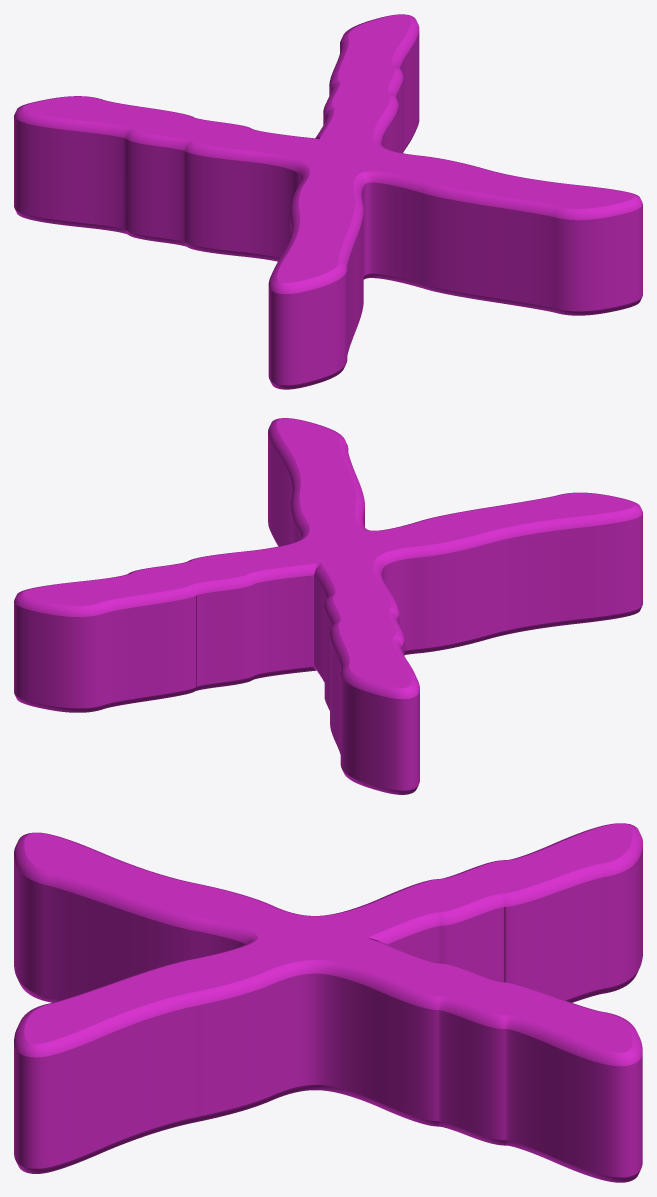
Rendered from Blocky_LetterX.fbx.
3 views of the same model, one above another, from view 1: azimuth 30°, elevation 25°; view 2: azimuth 150°, elevation 25°; view 3: azimuth 270°, elevation 25° (orthographic). The views are drawn at different scales.
Parts seen in each view (by area): view 1: BlockyLetter_X; view 2: BlockyLetter_X; view 3: BlockyLetter_X.
Part boxes in pixels (x1,y1,x2,y2): BlockyLetter_X: [14, 14, 642, 389]; BlockyLetter_X: [14, 418, 642, 794]; BlockyLetter_X: [14, 823, 642, 1182].
Size of the model in its own units: 0.5501 by 0.14 by 0.615.
